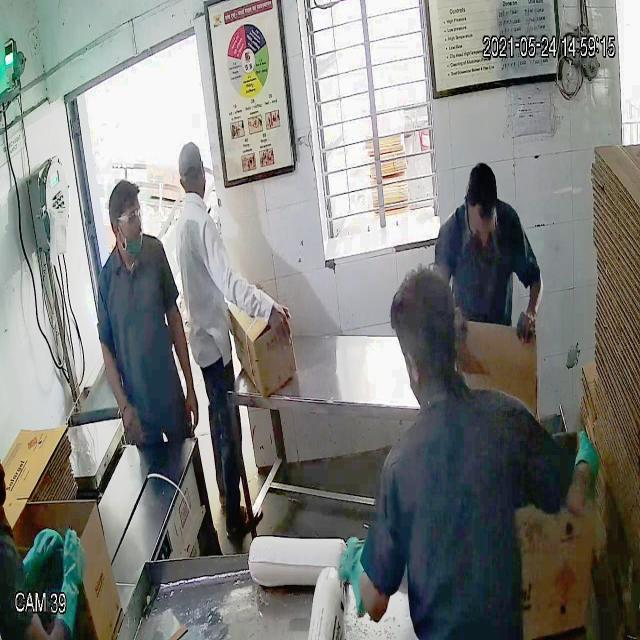glasses: (107, 204, 145, 231)
